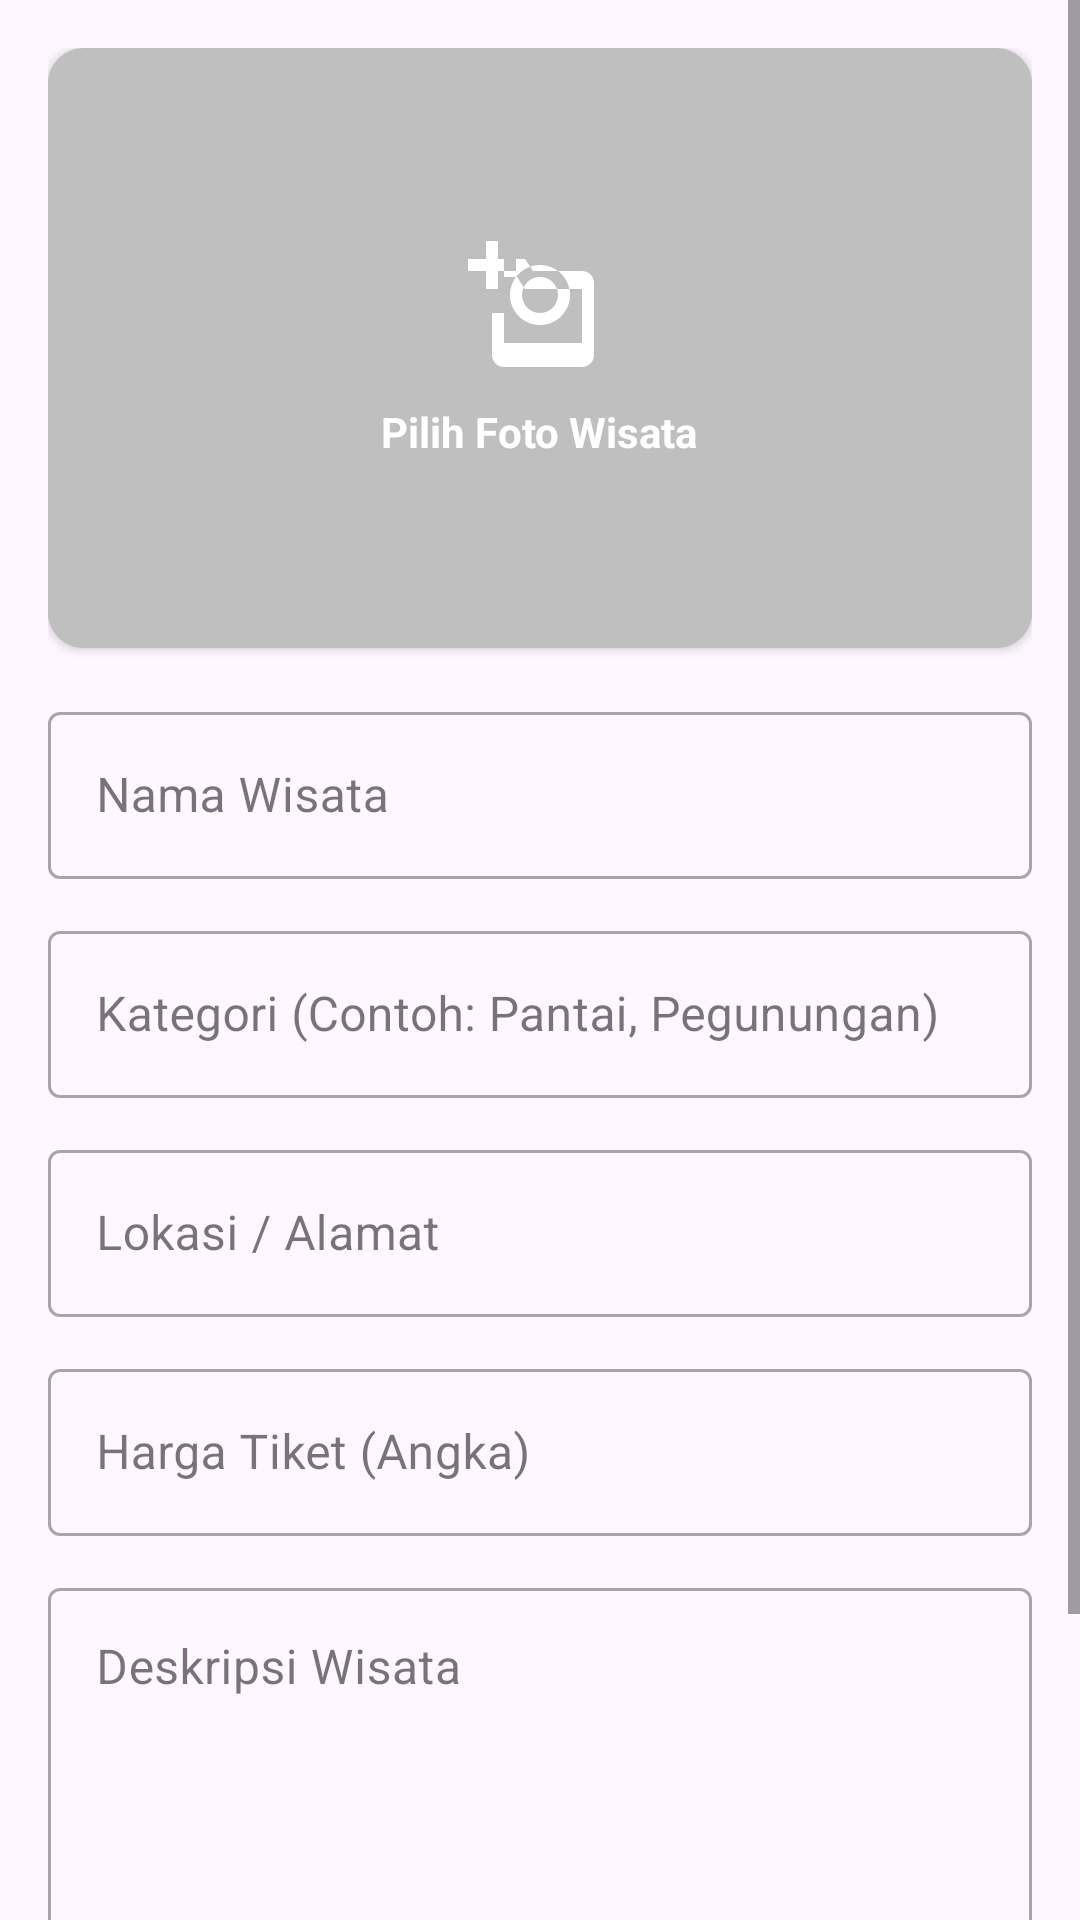

Icon bounding boxes for this 1080 x 1920 phone screenshot, format region(x1, y1, x2, y2):
Icon Kamera: region(468, 241, 594, 367)
